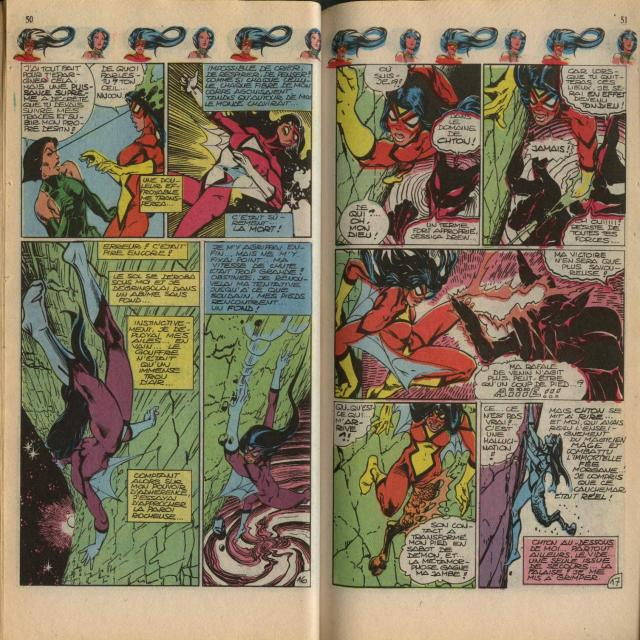comic_panel: (19, 239, 201, 588), (332, 246, 626, 404), (202, 241, 312, 590), (477, 402, 628, 594), (332, 400, 476, 590), (335, 62, 482, 247), (166, 60, 314, 240), (483, 63, 627, 247), (20, 61, 166, 241)
